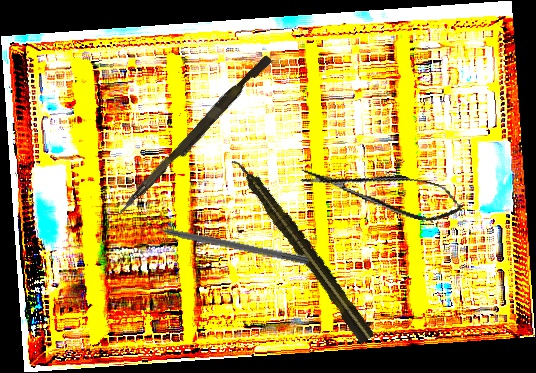Handpiece: (228, 152, 377, 346)
Micro Scissor: (297, 151, 467, 230)
Pusher: (115, 50, 273, 223), (136, 219, 310, 265)
